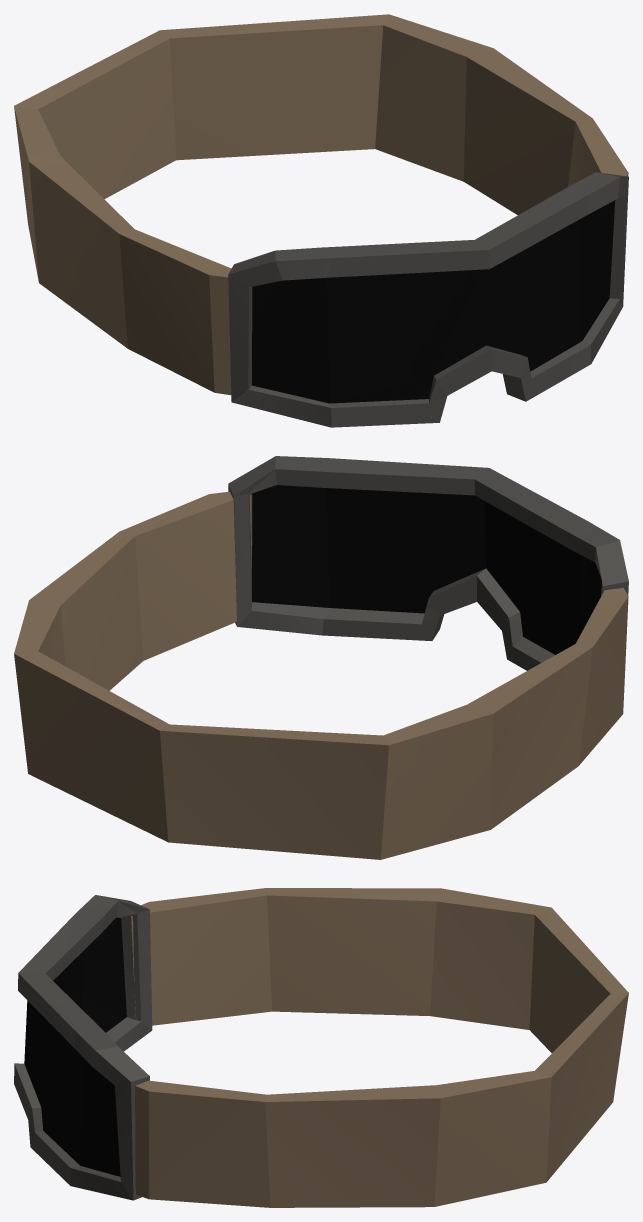
The model's file is Googles_01_SM.FBX.
3 renders of one model, top to bottom at view 1: azimuth 30°, elevation 25°; view 2: azimuth 150°, elevation 25°; view 3: azimuth 270°, elevation 25°, orthographic. The views are drawn at different scales.
Parts seen in each view (by area): view 1: Googles_01_SM; view 2: Googles_01_SM; view 3: Googles_01_SM.
Part boxes in pixels (box(x1,y1,x2,y2)): Googles_01_SM: box(14, 14, 628, 427); Googles_01_SM: box(14, 456, 628, 859); Googles_01_SM: box(14, 888, 628, 1207).
Size of what is drawn, in the model's own units: 21.6 by 26.22 by 7.35.
